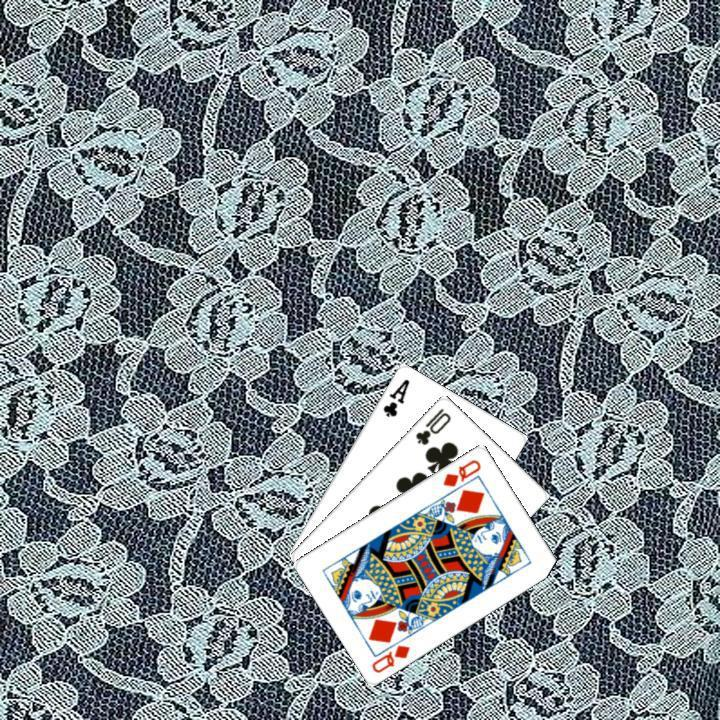10: (411, 403, 453, 447)
A: (378, 374, 412, 418)
Q: (367, 640, 412, 675), (438, 455, 483, 489)
